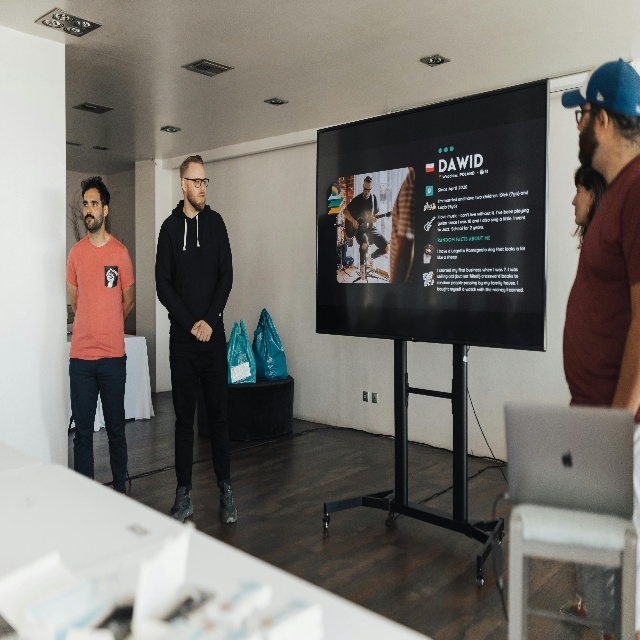Gafas: (575, 109, 599, 123), (184, 177, 209, 188), (363, 184, 372, 192)
Sin_guantes: (193, 319, 213, 342), (352, 219, 359, 230), (372, 213, 377, 223)
